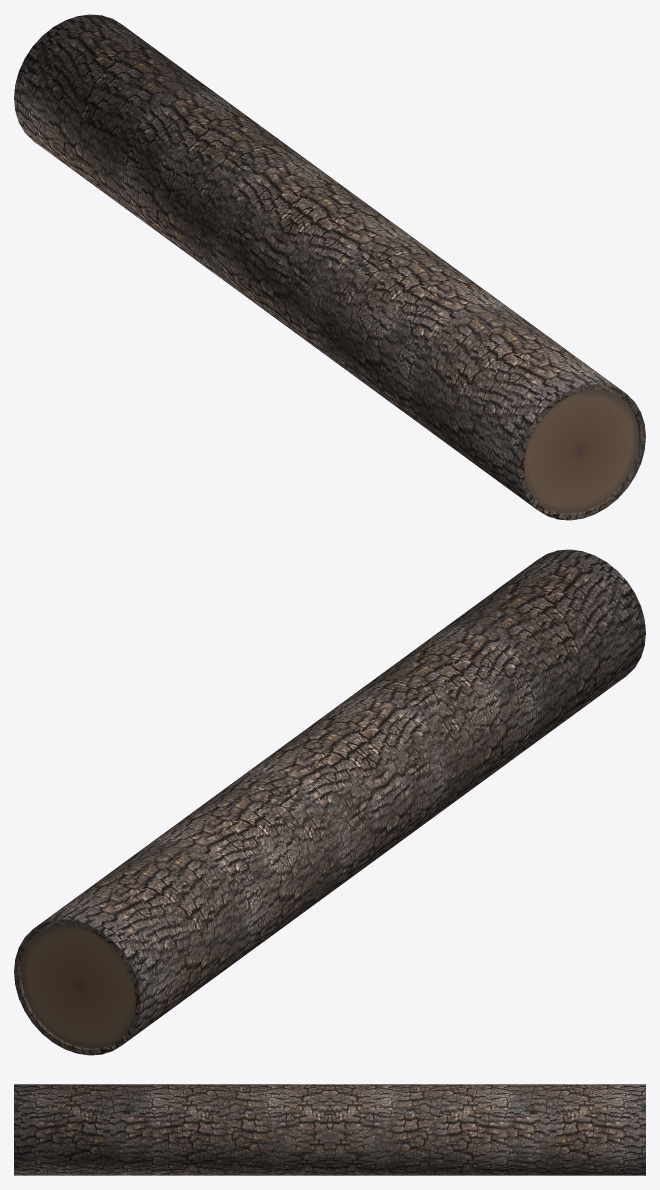
Rendered from lumber.fbx.
The picture shows the model from 3 angles, top to bottom: view 1: azimuth 30°, elevation 25°; view 2: azimuth 150°, elevation 25°; view 3: azimuth 270°, elevation 25°; orthographic projection. The views are drawn at different scales.
Parts seen in each view (by area): view 1: Cylinder; view 2: Cylinder; view 3: Cylinder.
Boxes of the visible parts, <box> form: Cylinder: <box>14,14,645,520</box>; Cylinder: <box>14,549,645,1055</box>; Cylinder: <box>14,1084,645,1175</box>.
Bounding box in the file's own units: 200 × 200 × 1379.
